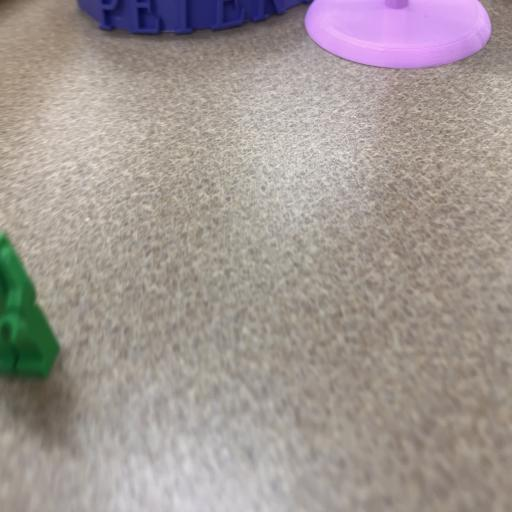Lego-Minifig: (0, 233, 59, 378)
